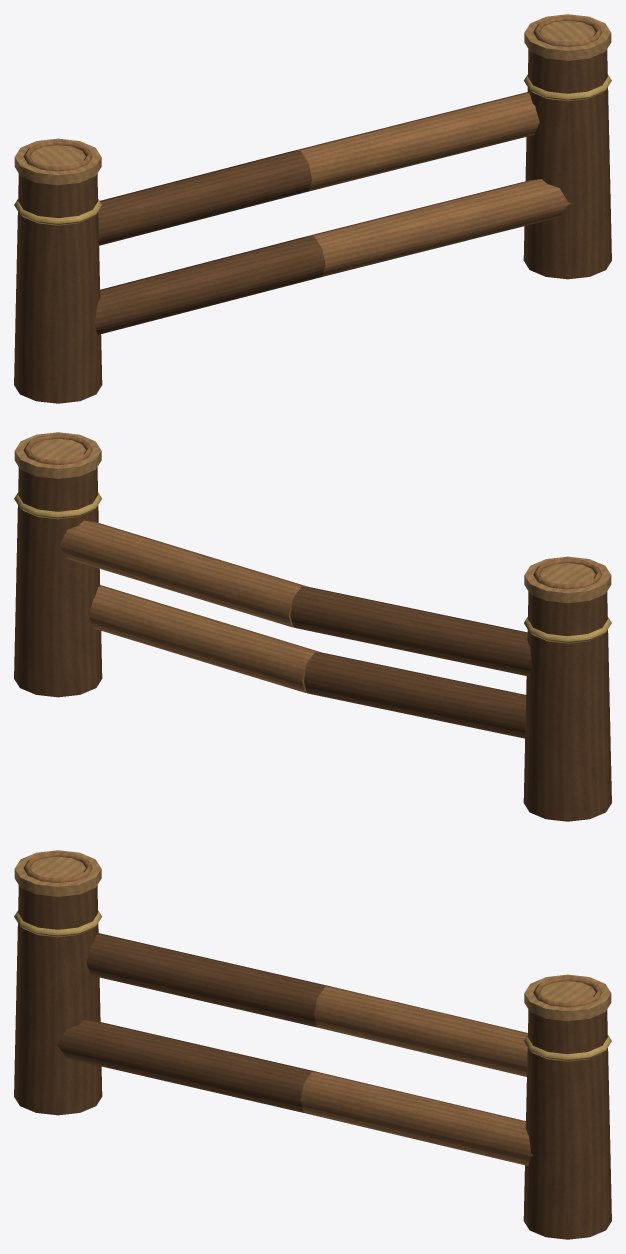
The model's file is fence-0.fbx.
3 views of the same model, one above another, from view 1: azimuth 30°, elevation 25°; view 2: azimuth 150°, elevation 25°; view 3: azimuth 330°, elevation 25° (orthographic).
Parts seen in each view (by area): view 1: fence-0__Geometry; view 2: fence-0__Geometry; view 3: fence-0__Geometry.
Boxes of the visible parts, x1,y1,x2,y2 form: fence-0__Geometry: [14, 14, 611, 403]; fence-0__Geometry: [14, 432, 611, 821]; fence-0__Geometry: [14, 850, 611, 1239].
Size of the model in its own units: 2.76 by 1.04 by 0.3719.
